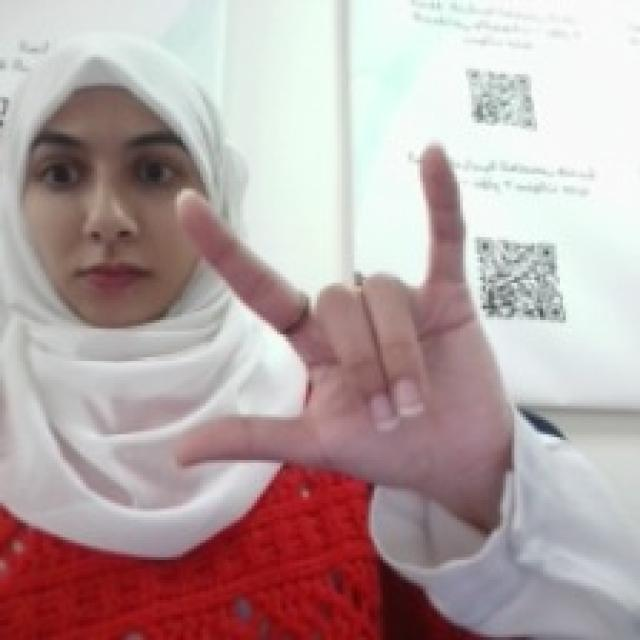love: (174, 134, 506, 489)
